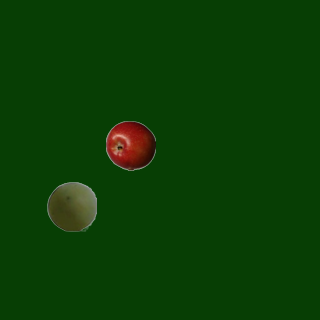Apple Braeburn: (105, 120, 155, 170)
Grape White 4: (46, 181, 96, 231)
